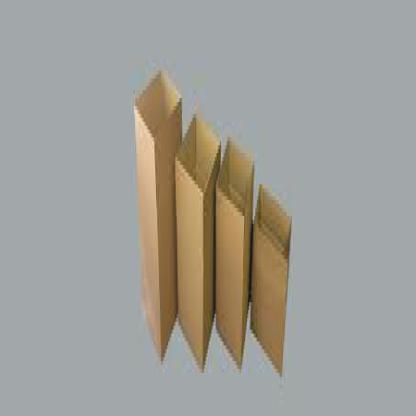box: (128, 51, 184, 377), (177, 102, 222, 381), (216, 126, 255, 377), (252, 169, 294, 381)
